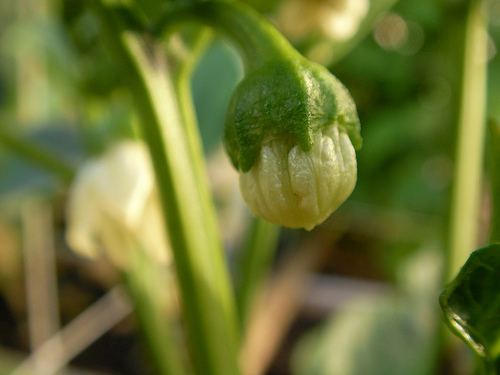capsicum: (211, 2, 366, 246)
